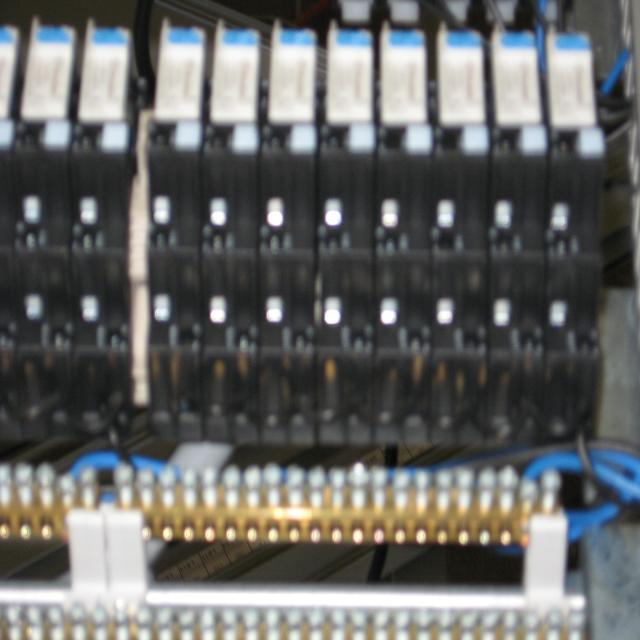Relais: (77, 22, 133, 123), (21, 24, 76, 123), (545, 32, 599, 127), (489, 31, 543, 124), (153, 24, 205, 120), (436, 29, 487, 123), (211, 24, 260, 121), (267, 27, 316, 122), (380, 28, 428, 124), (326, 28, 373, 124)
